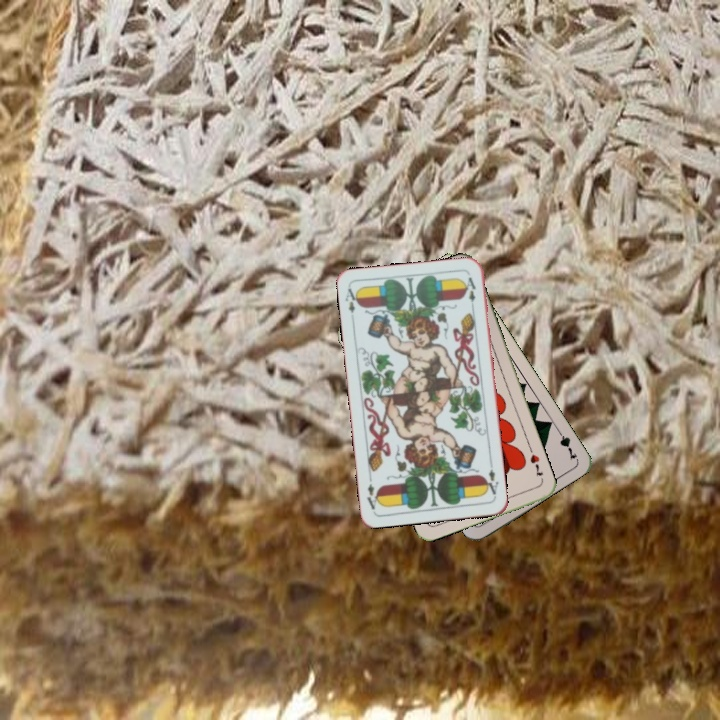EA: (341, 284, 362, 324), (481, 459, 501, 499)
G7: (552, 424, 580, 463)
H7: (526, 450, 546, 480)
